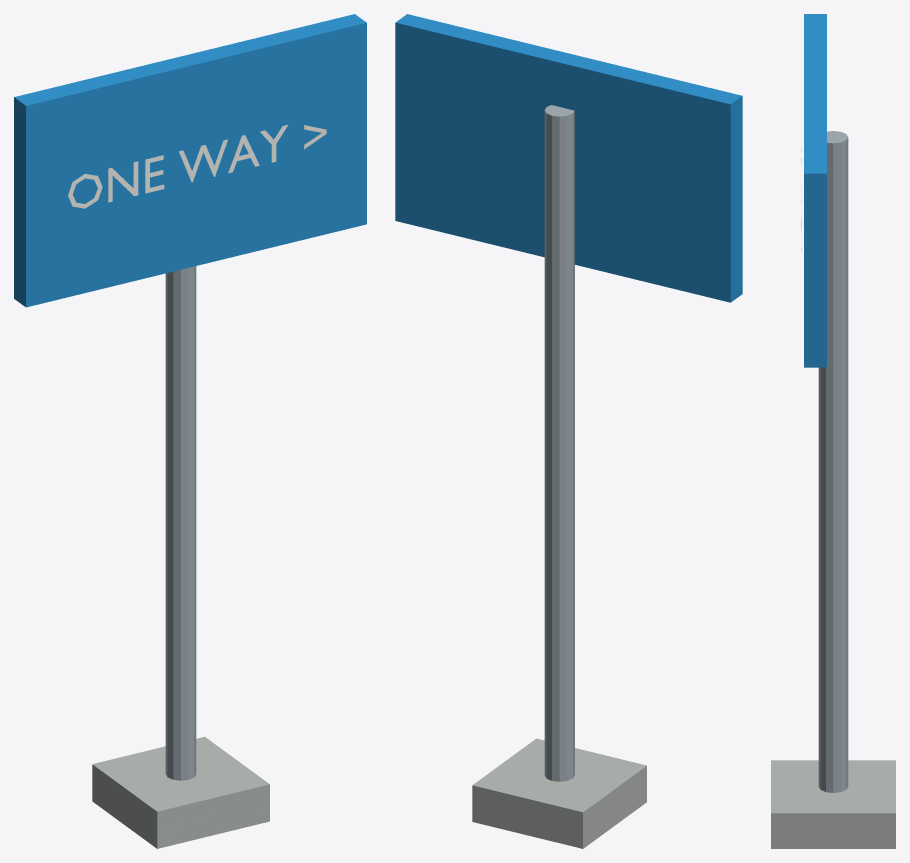
File: TR_Sign_OneWay.glb
3 views of the same model, side by side, from view 1: azimuth 30°, elevation 25°; view 2: azimuth 150°, elevation 25°; view 3: azimuth 270°, elevation 25° (orthographic). The views are drawn at different scales.
Visible parts, largest first — view 1: TR_Sign_OneWay; view 2: TR_Sign_OneWay; view 3: TR_Sign_OneWay.
Boxes of the visible parts, <box> form: TR_Sign_OneWay: <box>14,14,366,848</box>; TR_Sign_OneWay: <box>395,14,742,848</box>; TR_Sign_OneWay: <box>771,14,895,848</box>.
Size of the model in its own units: 1.15 by 2.44 by 0.38.
